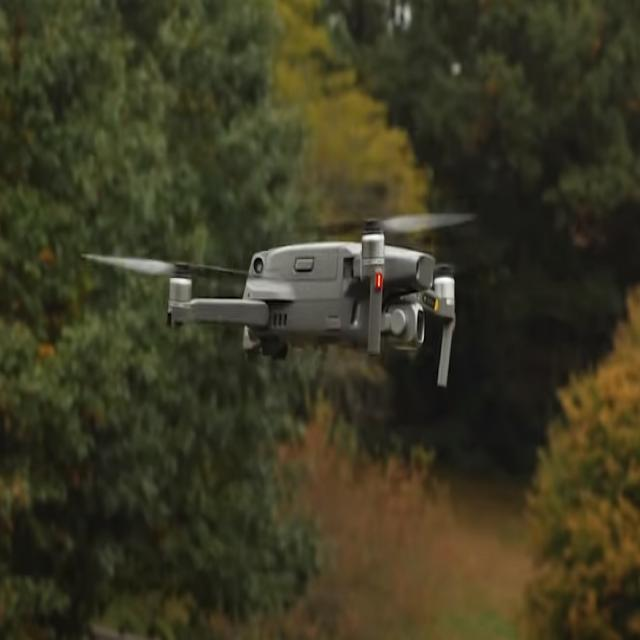drone: (70, 154, 498, 417)
